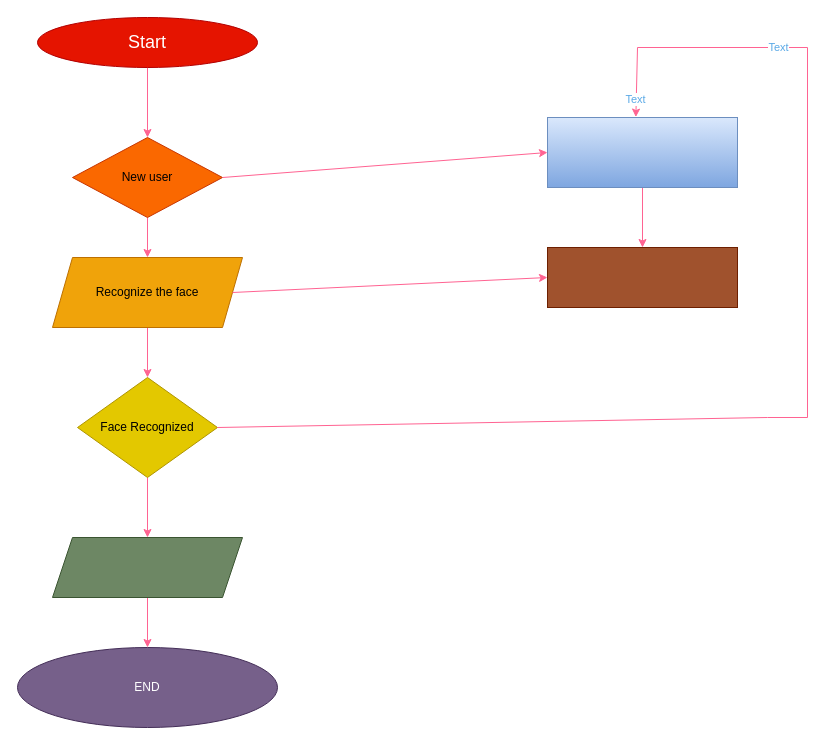
The diagram is 833 pixels wide and 745 high, and some of its shapes have lost their labels. Here are the shapes that lost their labels. From the top down, the box of each, then its label:
(546, 116, 738, 188): Give your photograph
(546, 246, 738, 308): Store the face data in folder on your name
(52, 536, 242, 598): stored in csv file with registration number & date time of entry
